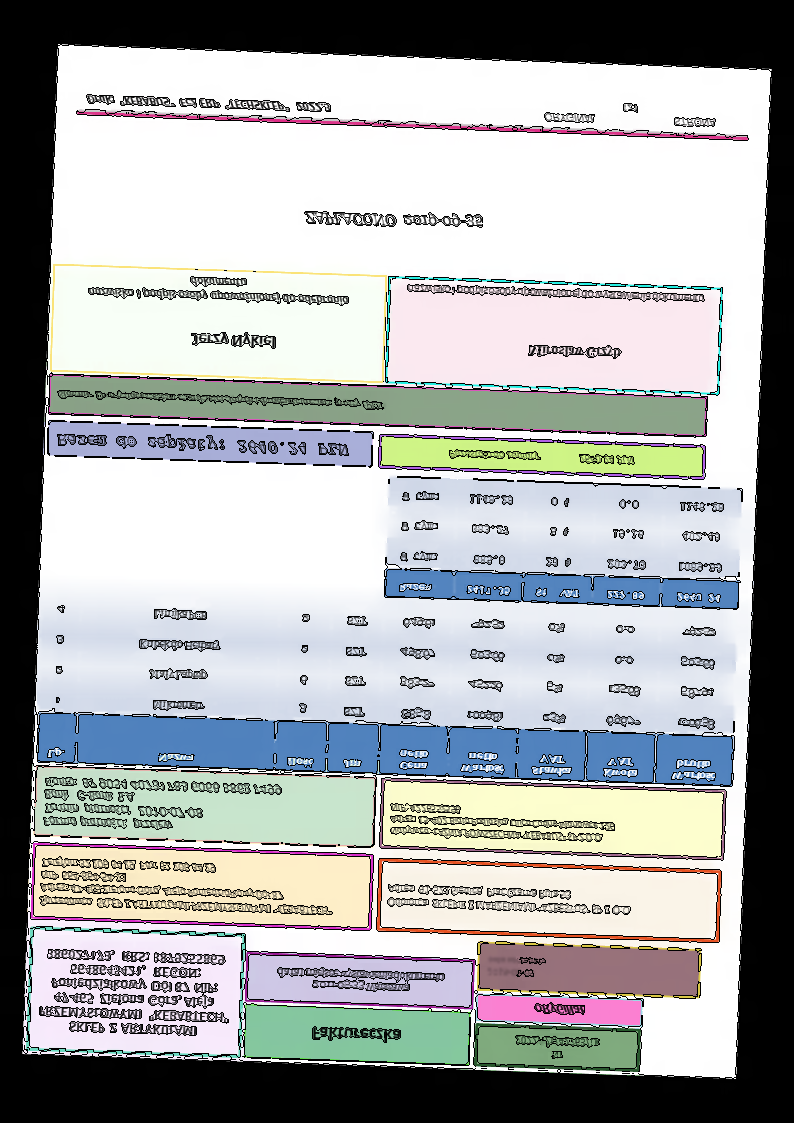Table: (34, 590, 740, 788), (383, 476, 744, 611)
TextBox: (36, 854, 334, 918), (35, 947, 234, 1041), (39, 774, 283, 836), (386, 801, 616, 846), (385, 882, 634, 919), (55, 385, 388, 412), (54, 431, 350, 459), (274, 965, 448, 998), (85, 93, 332, 116), (541, 100, 718, 129), (301, 206, 485, 233), (446, 447, 635, 468), (513, 1033, 603, 1064), (308, 1024, 402, 1046), (484, 952, 550, 981), (187, 330, 278, 351), (527, 342, 622, 361), (531, 1002, 590, 1019)
